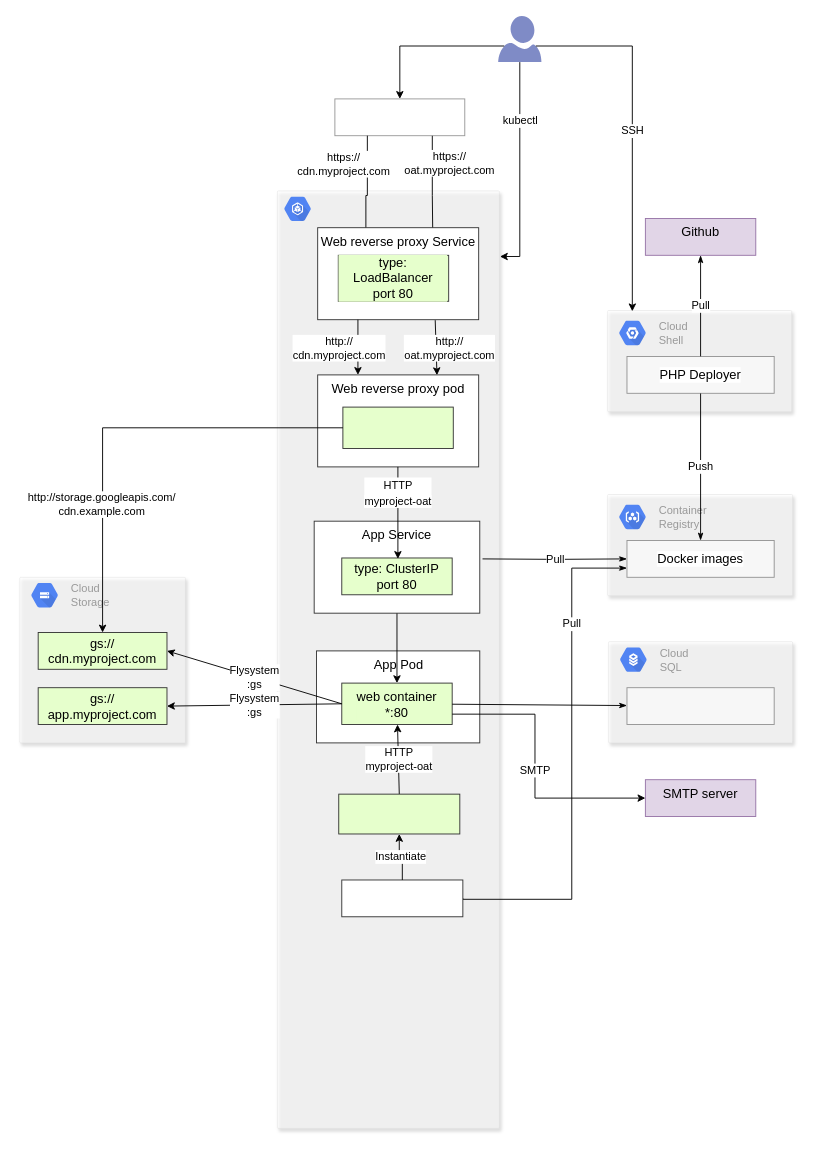
This 814x1151 diagram has some shape labels left out. The shapes that lost their labels are listed below. From the top down, each one's centre as x and y in pixels, then its label:
At pixel 399 117: "Browser".
At pixel 297 208: "Kubernetes Engine".
At pixel 397 427: "web server *:80".
At pixel 700 705: "MySQL DB".
At pixel 399 813: "cron container (ephemeral)".
At pixel 402 898: "Cronjobs".
